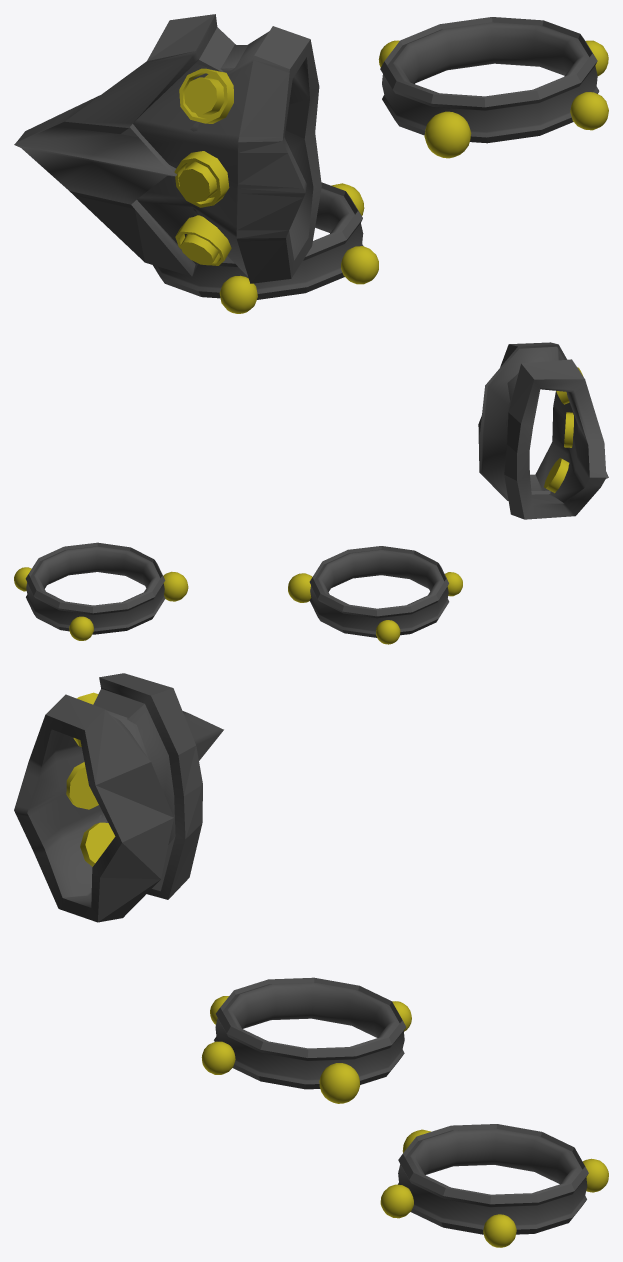
The picture shows the model from 3 angles, top to bottom: view 1: azimuth 30°, elevation 25°; view 2: azimuth 150°, elevation 25°; view 3: azimuth 270°, elevation 25°; orthographic projection. The views are drawn at different scales.
Parts seen in each view (by area): view 1: hand_bracers, feet_rings.001, Cylinder_002, feet_rings; view 2: hand_bracers, feet_rings.001, feet_rings, Cylinder_002; view 3: hand_bracers, feet_rings.001, feet_rings, Cylinder_002.
Boxes of the visible parts, left/top/right/bottom form: hand_bracers: left=14, top=14, right=321, bottom=283; feet_rings.001: left=153, top=17, right=599, bottom=299; Cylinder_002: left=174, top=68, right=233, bottom=265; feet_rings: left=219, top=40, right=608, bottom=313; hand_bracers: left=478, top=342, right=608, bottom=519; feet_rings.001: left=25, top=542, right=449, bottom=637; feet_rings: left=14, top=567, right=462, bottom=644; Cylinder_002: left=544, top=367, right=583, bottom=493; hand_bracers: left=14, top=673, right=223, bottom=922; feet_rings.001: left=214, top=977, right=588, bottom=1234; feet_rings: left=201, top=996, right=608, bottom=1247; Cylinder_002: left=66, top=692, right=115, bottom=866.
Bounding box in the file's own units: 121 × 93.91 × 53.85.
